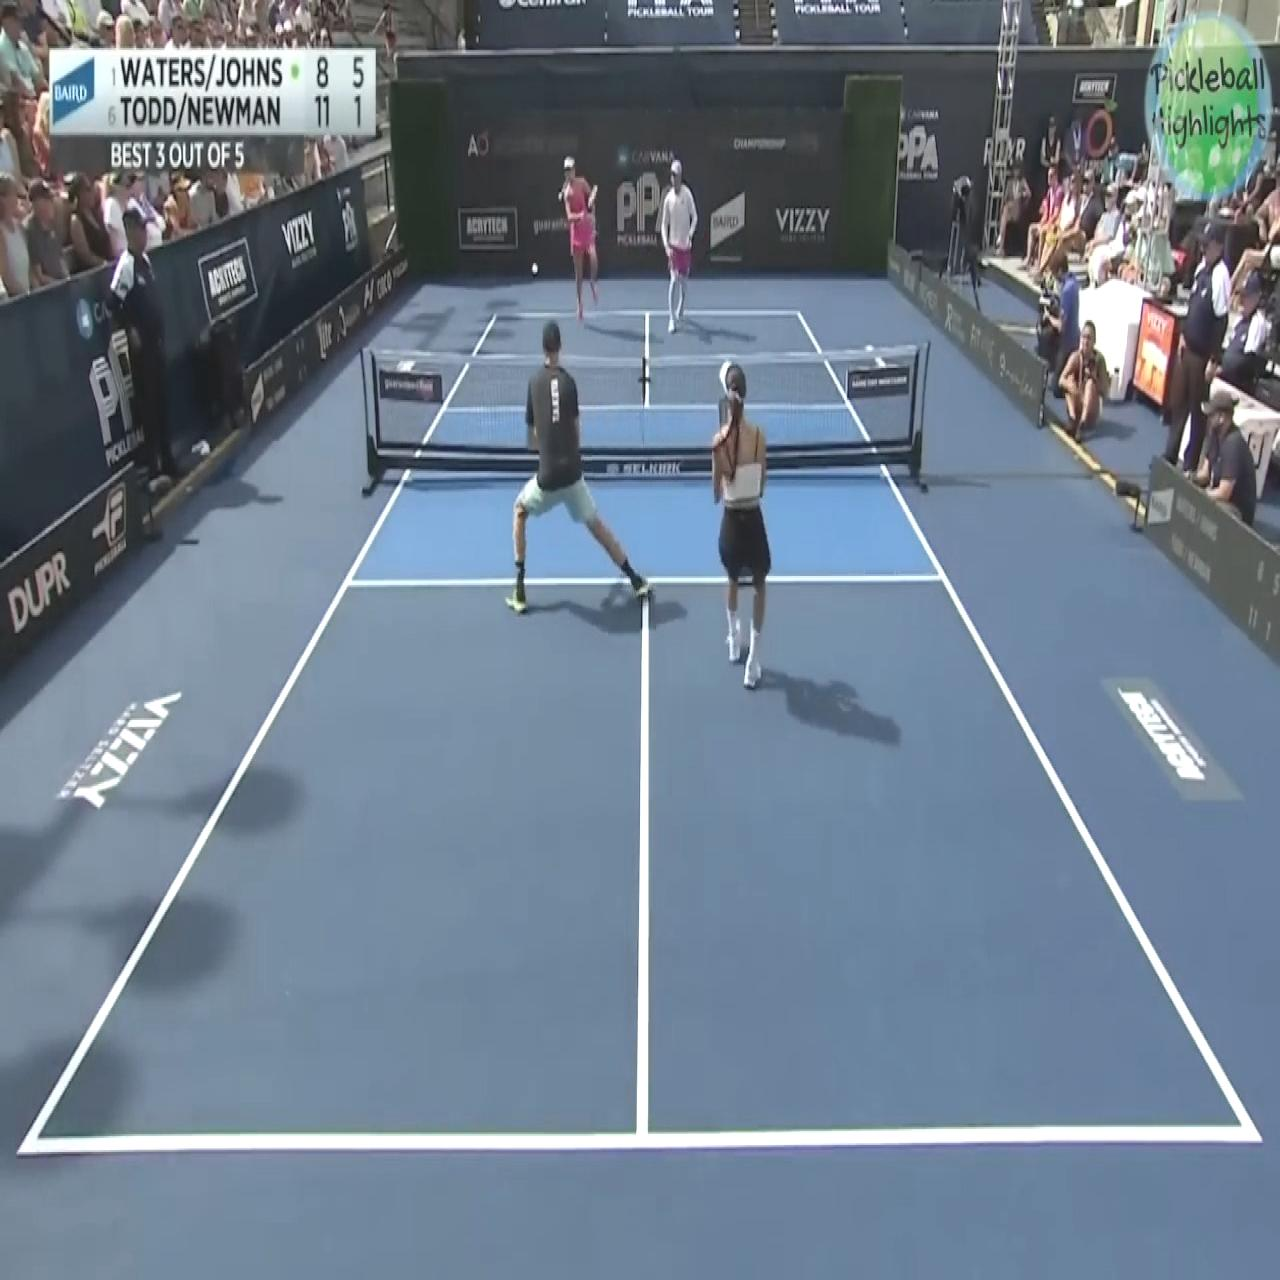Pickleball: (529, 260, 538, 279)
